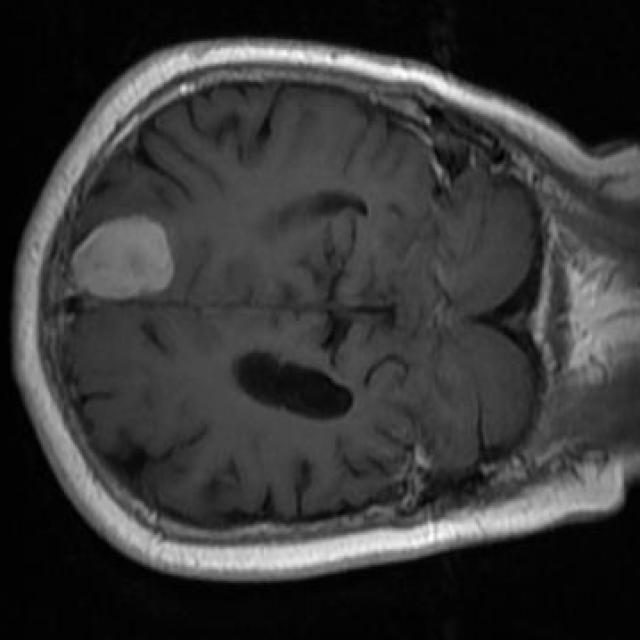meningioma: (71, 217, 173, 299)
